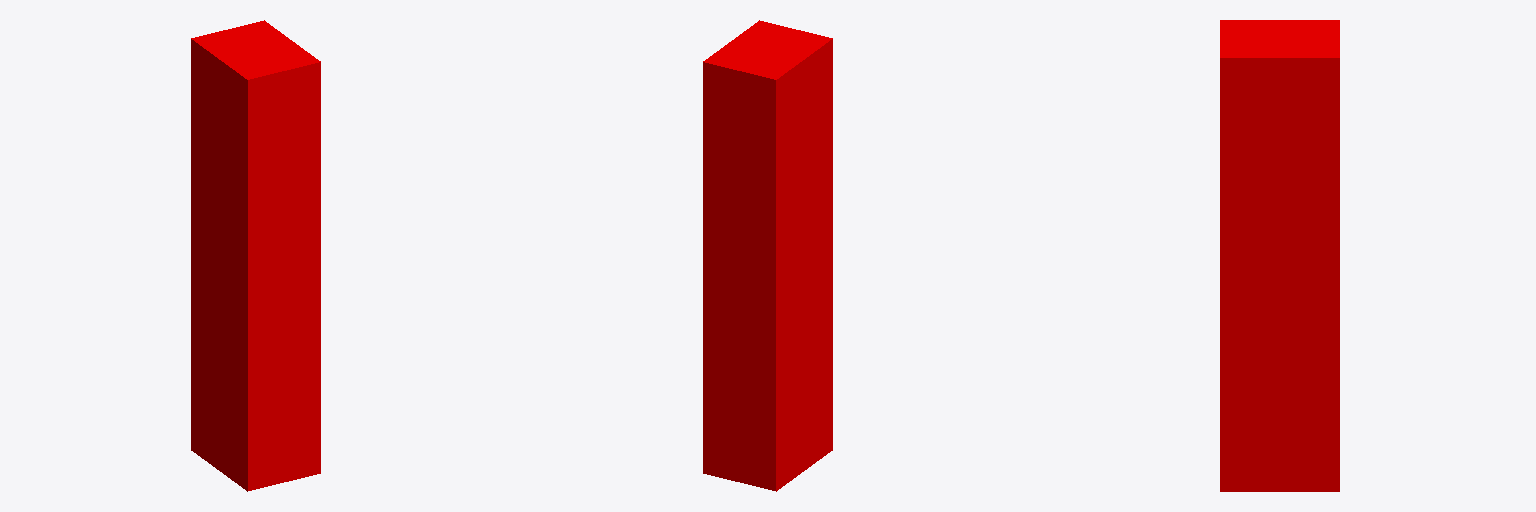
URDF robot description (stick):
<?xml version="1.0" ?>
<robot name="stick">
  <link name="baseLink">
    <contact>
      <lateral_friction value="1.0"/>
      <rolling_friction value="1.0"/>
      <spinning_friction value="1.0"/>
      <!--contact_cfm value="0.0"/-->
      <!--contact_erp value="1.0"/-->
    </contact>
    <inertial>
      <origin rpy="0 0 0" xyz="0 0 0"/>
       <mass value="1.0"/>
       <inertia ixx="1" ixy="0" ixz="0" iyy="1" iyz="0" izz="1"/>
    </inertial>
    <visual>
      <origin rpy="0 0 0" xyz="0 0 0"/>
      <geometry>
				<box size="0.015 0.02 0.08"/>
      </geometry>
       <material name="red">
        <color rgba="1 0 0 1"/>
      </material>
    </visual>
    <collision>
      <origin rpy="0 0 0" xyz="0 0 0"/>
      <geometry>
	 	  <box size="0.015 0.02 0.08"/>
      </geometry>
    </collision>
  </link>
</robot>

--- Facts derived from the render (not from the file) ---
The picture shows the robot from 3 angles, left to right: view 1: azimuth 30°, elevation 25°; view 2: azimuth 150°, elevation 25°; view 3: azimuth 270°, elevation 25°; orthographic projection.
Robot: stick — 1 links, 0 joints (none); root link baseLink; default pose: all joints at 0.
Links seen in each view (by area): view 1: baseLink; view 2: baseLink; view 3: baseLink.
Boxes of the visible links, x1,y1,x2,y2 form: baseLink: (191,20,320,491); baseLink: (703,20,832,491); baseLink: (1220,20,1339,491).
Size in the robot's own frame: 0.015 by 0.02 by 0.08 metres.
Geometry: primitives only (box / cylinder / sphere), no mesh files.
